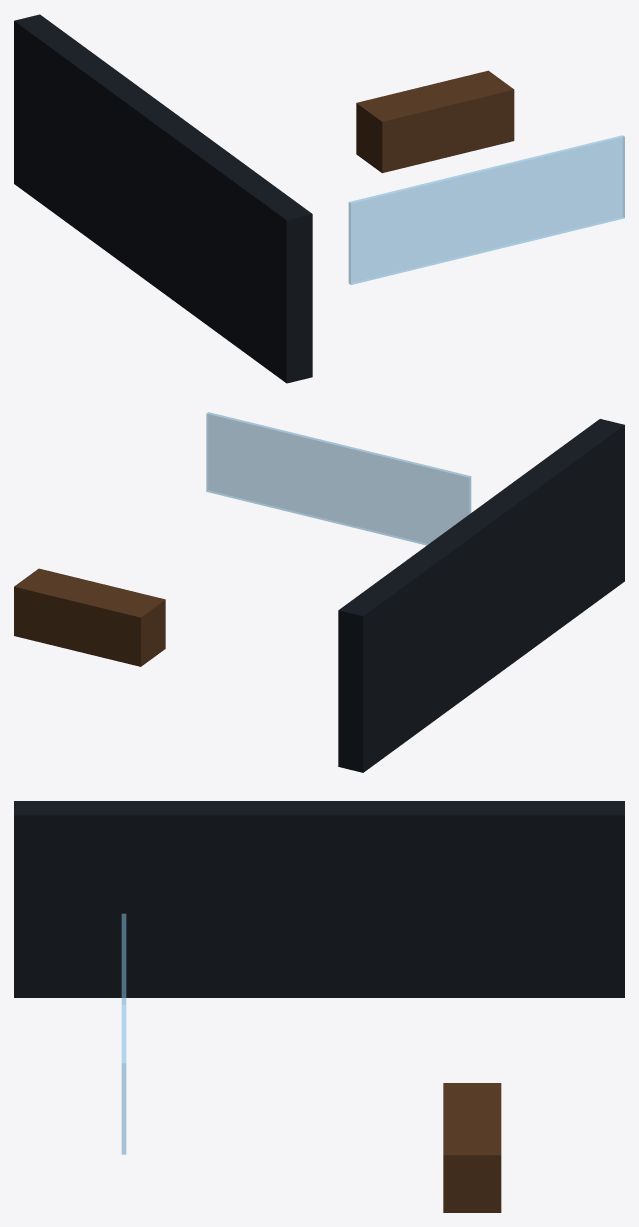
File: module.office_window_clear.glb
The picture shows the model from 3 angles, top to bottom: view 1: azimuth 30°, elevation 25°; view 2: azimuth 150°, elevation 25°; view 3: azimuth 270°, elevation 25°; orthographic projection. The views are drawn at different scales.
Parts seen in each view (by area): view 1: office_left_wall, office_glass, office_cover; view 2: office_left_wall, office_glass, office_cover; view 3: office_left_wall, office_cover, office_glass.
Part boxes in pixels (x1,y1,x2,y2): office_left_wall: (14, 14, 312, 383); office_glass: (348, 135, 624, 284); office_cover: (356, 70, 514, 173); office_left_wall: (338, 419, 624, 772); office_glass: (206, 412, 471, 545); office_cover: (14, 568, 165, 666); office_left_wall: (14, 801, 624, 997); office_cover: (443, 1083, 501, 1212); office_glass: (121, 913, 126, 1154).
Bounding box in the file's own units: 8.87 × 3.3 × 10.
